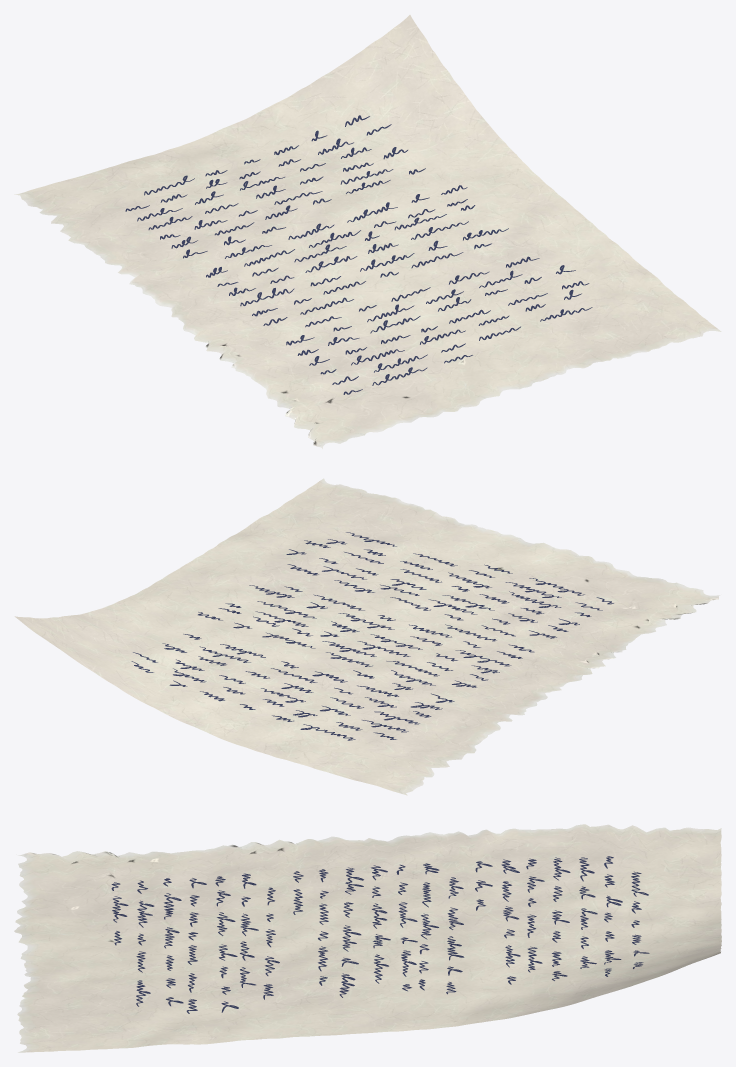
File: hoja_base.glb
The picture shows the model from 3 angles, top to bottom: view 1: azimuth 30°, elevation 25°; view 2: azimuth 150°, elevation 25°; view 3: azimuth 270°, elevation 25°; orthographic projection. The views are drawn at different scales.
Visible parts, largest first — view 1: Hoja, Lineas; view 2: Hoja, Lineas; view 3: Hoja, Lineas.
Boxes of the visible parts, bbox=[...] form: Hoja: bbox=[14, 15, 721, 448]; Lineas: bbox=[125, 115, 592, 394]; Hoja: bbox=[14, 478, 720, 795]; Lineas: bbox=[131, 532, 613, 740]; Hoja: bbox=[14, 824, 721, 1052]; Lineas: bbox=[111, 856, 649, 1013].
Bounding box in the file's own units: 2.94 × 0.7628 × 3.96.
2 materials, 1 textured.
